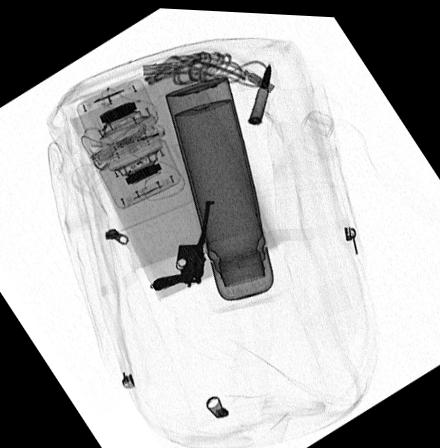Bullet: (247, 62, 270, 123)
Gun: (151, 199, 211, 291)
